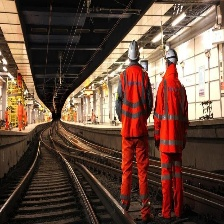helmet: (126, 38, 141, 67), (165, 49, 178, 68)
person: (114, 36, 155, 223), (155, 49, 190, 223)
vest: (155, 62, 190, 155), (115, 65, 152, 139)
